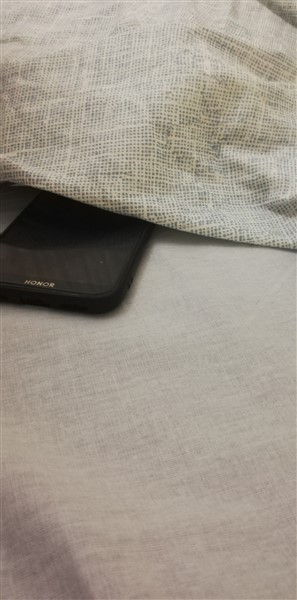telefon: (1, 172, 163, 316)
